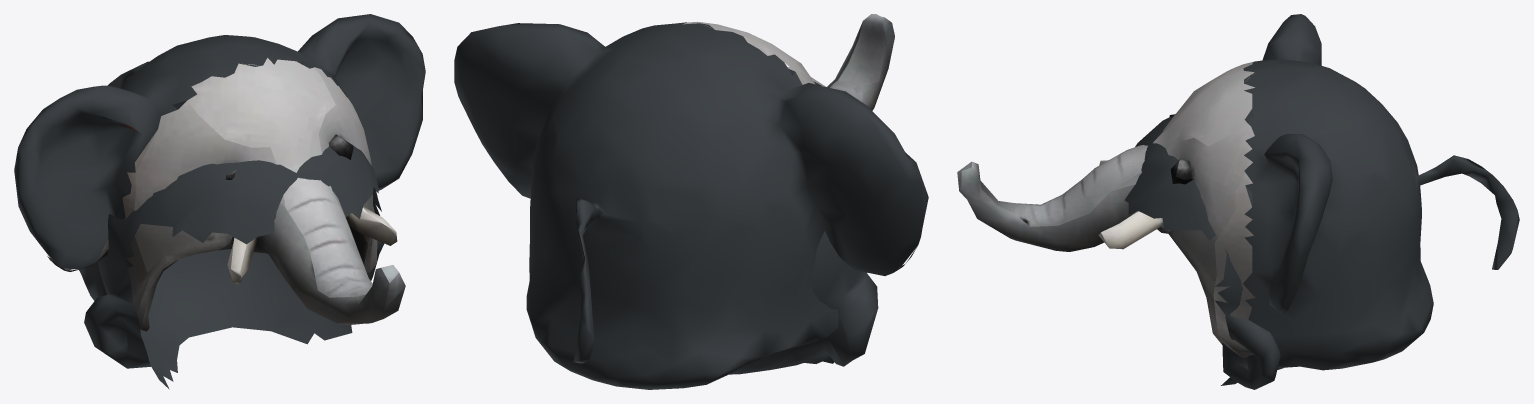
The model's file is elephant.glb.
The picture shows the model from 3 angles, left to right: view 1: azimuth 30°, elevation 25°; view 2: azimuth 150°, elevation 25°; view 3: azimuth 270°, elevation 25°; orthographic projection. The views are drawn at different scales.
Parts seen in each view (by area): view 1: geometry_0, HoodAnatomicalLining; view 2: geometry_0, HoodAnatomicalLining; view 3: geometry_0, HoodAnatomicalLining.
Part boxes in pixels (box(x1,y1,x2,y2)): geometry_0: box(14, 14, 425, 331); HoodAnatomicalLining: box(84, 145, 384, 389); geometry_0: box(454, 14, 928, 389); HoodAnatomicalLining: box(729, 69, 878, 374); geometry_0: box(957, 14, 1519, 370); HoodAnatomicalLining: box(1124, 109, 1283, 389).
Size of the model in its own units: 0.7299 by 0.4935 by 0.8938.
Materials: 2 (1 with a texture image).
